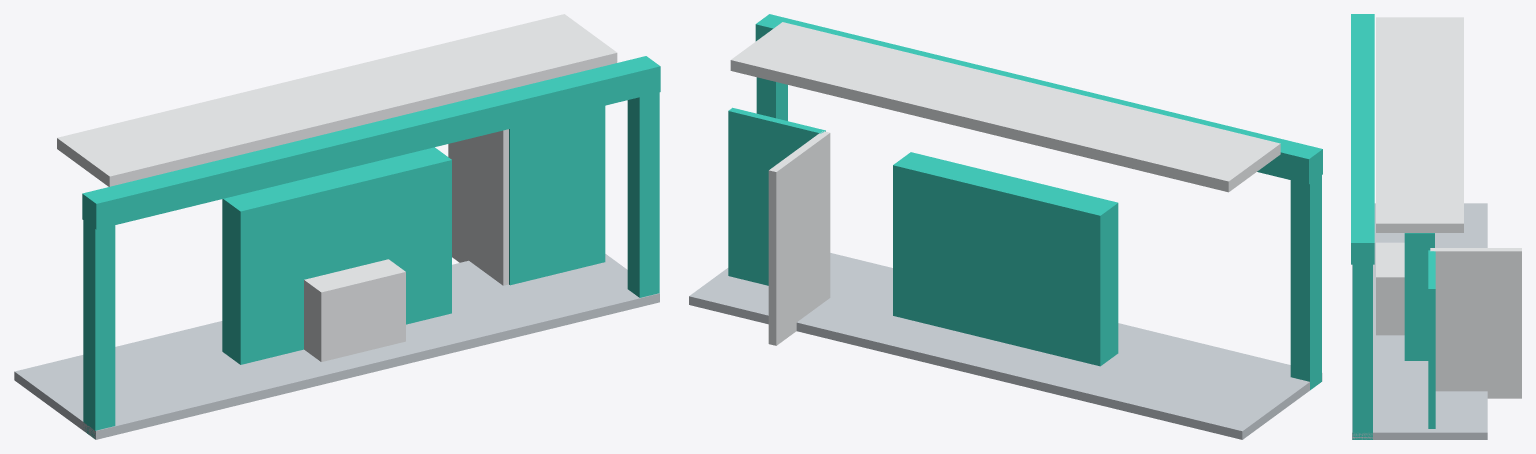
3 renders of one model, left to right at view 1: azimuth 30°, elevation 25°; view 2: azimuth 150°, elevation 25°; view 3: azimuth 270°, elevation 25°, orthographic. The views are drawn at different scales.
Visible parts, largest first — view 1: Exhibition Booth Concept; view 2: Exhibition Booth Concept; view 3: Exhibition Booth Concept.
Part boxes in pixels (left/top/right/bottom): Exhibition Booth Concept: left=14, top=14, right=660, bottom=439; Exhibition Booth Concept: left=689, top=14, right=1322, bottom=439; Exhibition Booth Concept: left=1351, top=14, right=1521, bottom=439.
Bounding box in the file's own units: 8 × 3.34 × 2.52.
